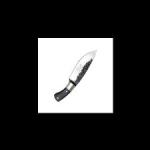Pisau: (53, 48, 99, 102)
